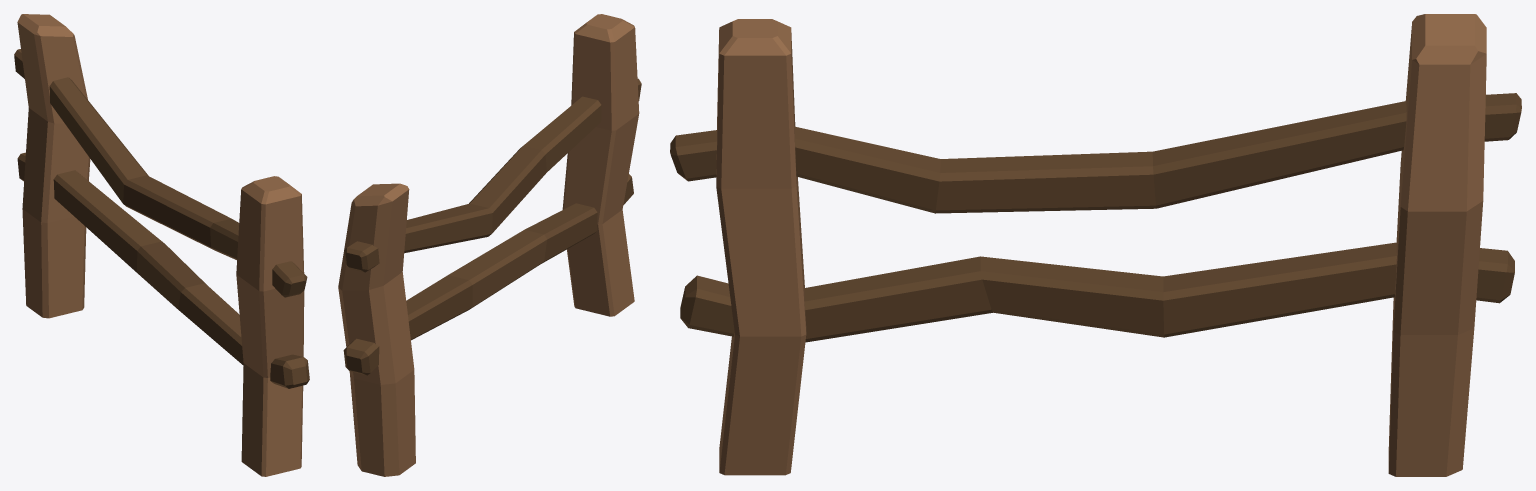
Rendered from prop_fence.fbx.
The picture shows the model from 3 angles, left to right: view 1: azimuth 30°, elevation 25°; view 2: azimuth 150°, elevation 25°; view 3: azimuth 270°, elevation 25°; orthographic projection. The views are drawn at different scales.
Visible parts, largest first — view 1: Fence; view 2: Fence; view 3: Fence.
Boxes of the visible parts, x1,y1,x2,y2 form: Fence: (14, 14, 309, 476); Fence: (338, 14, 641, 476); Fence: (670, 14, 1521, 476).
Bounding box in the file's own units: 106 × 505 × 894.
